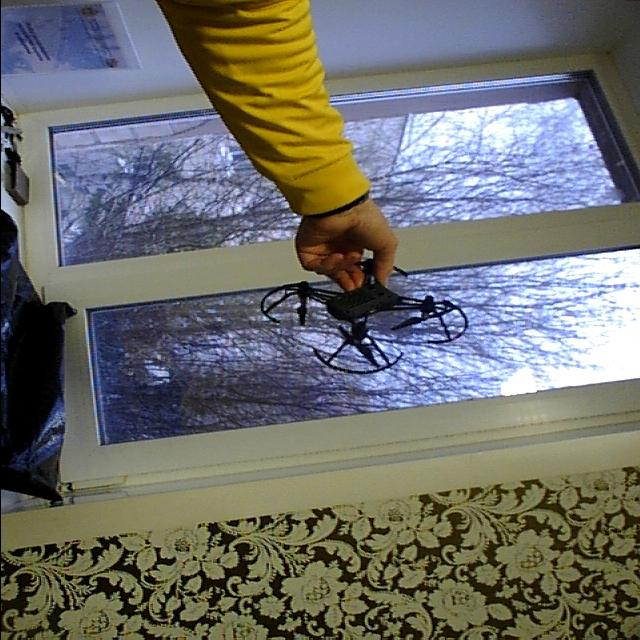drone: (253, 238, 481, 380)
